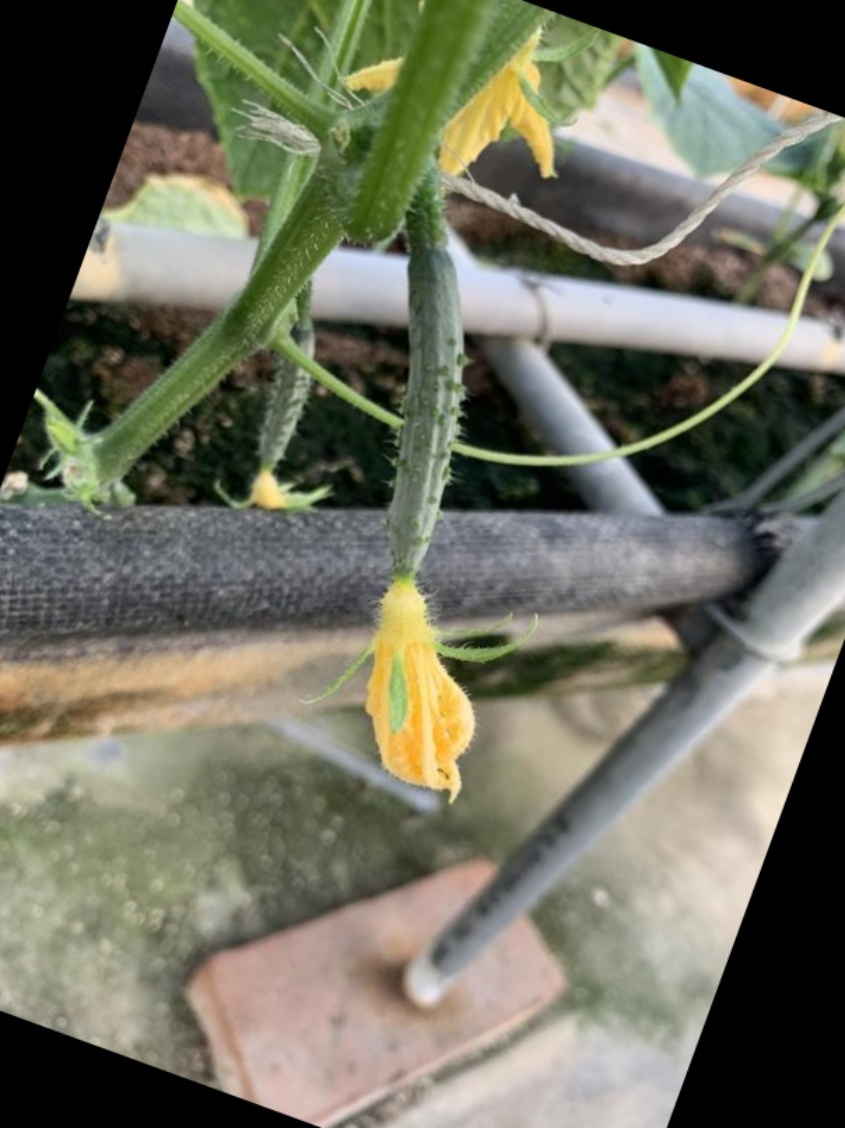bear: (306, 206, 532, 801)
